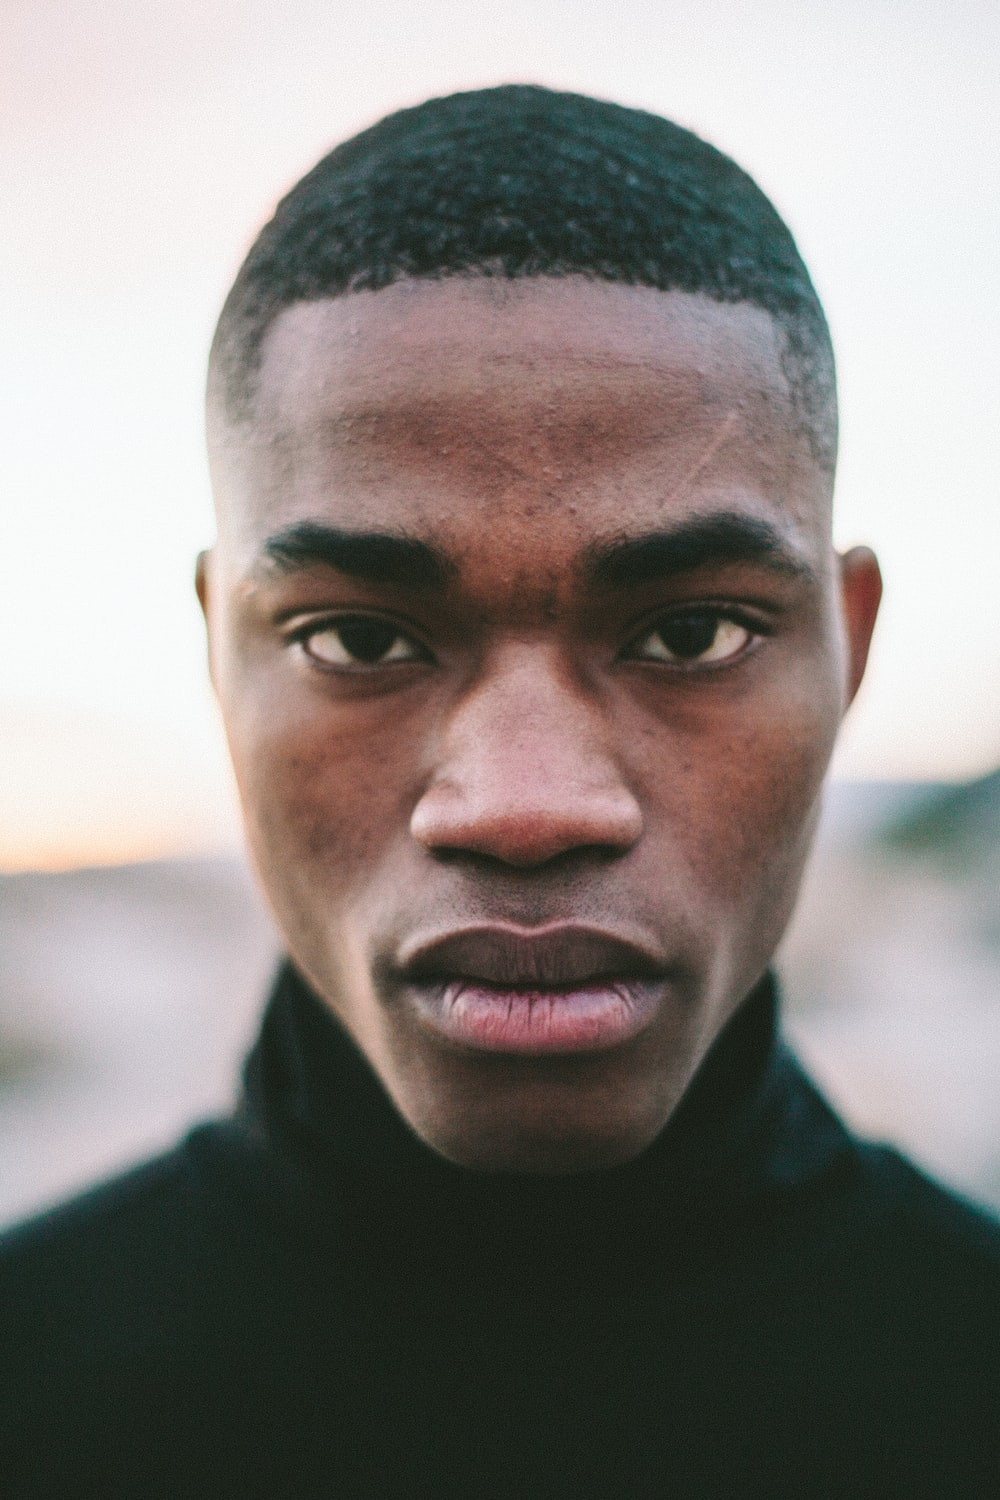bare: (220, 702, 851, 1156)
